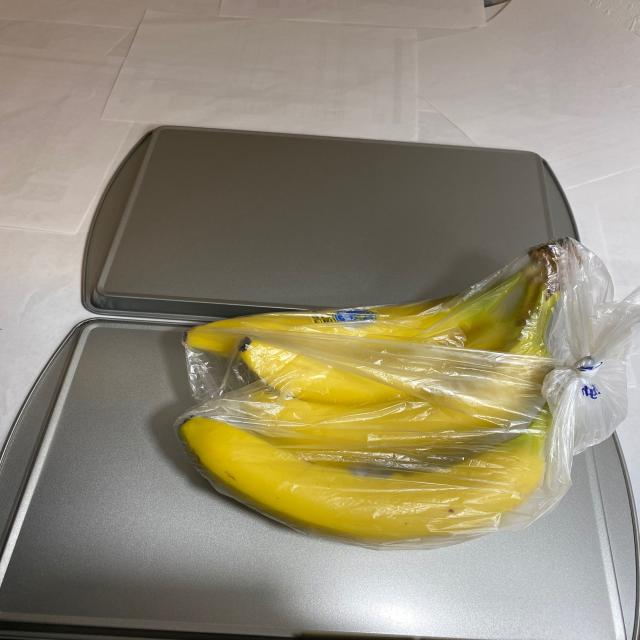banana: (180, 236, 584, 548)
